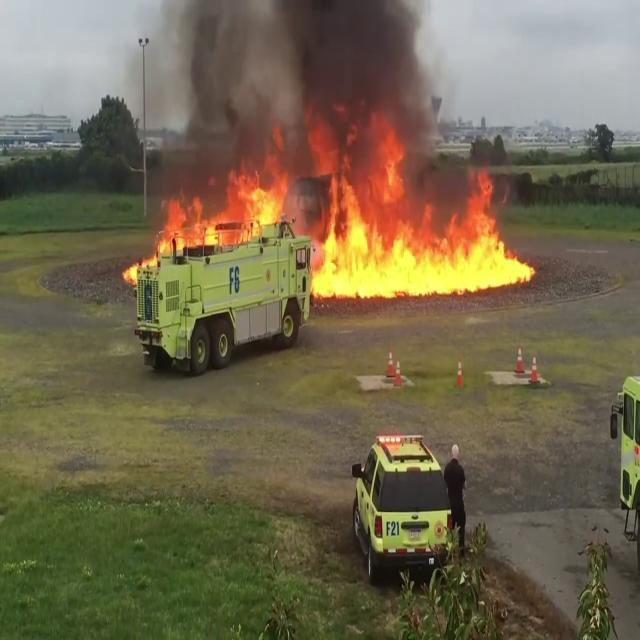Fire: (142, 140, 536, 312)
Smoke: (145, 0, 460, 172)
